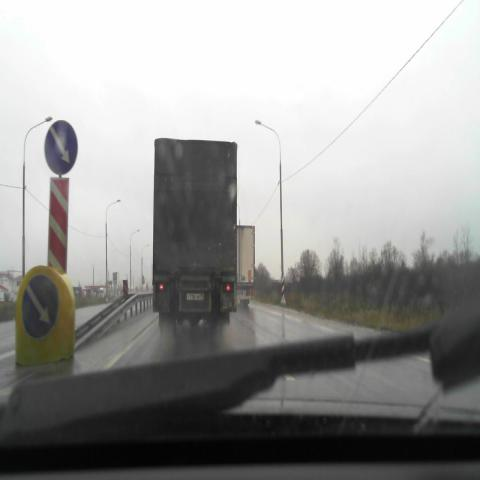4_2_1: (21, 275, 59, 338), (44, 119, 78, 174)
